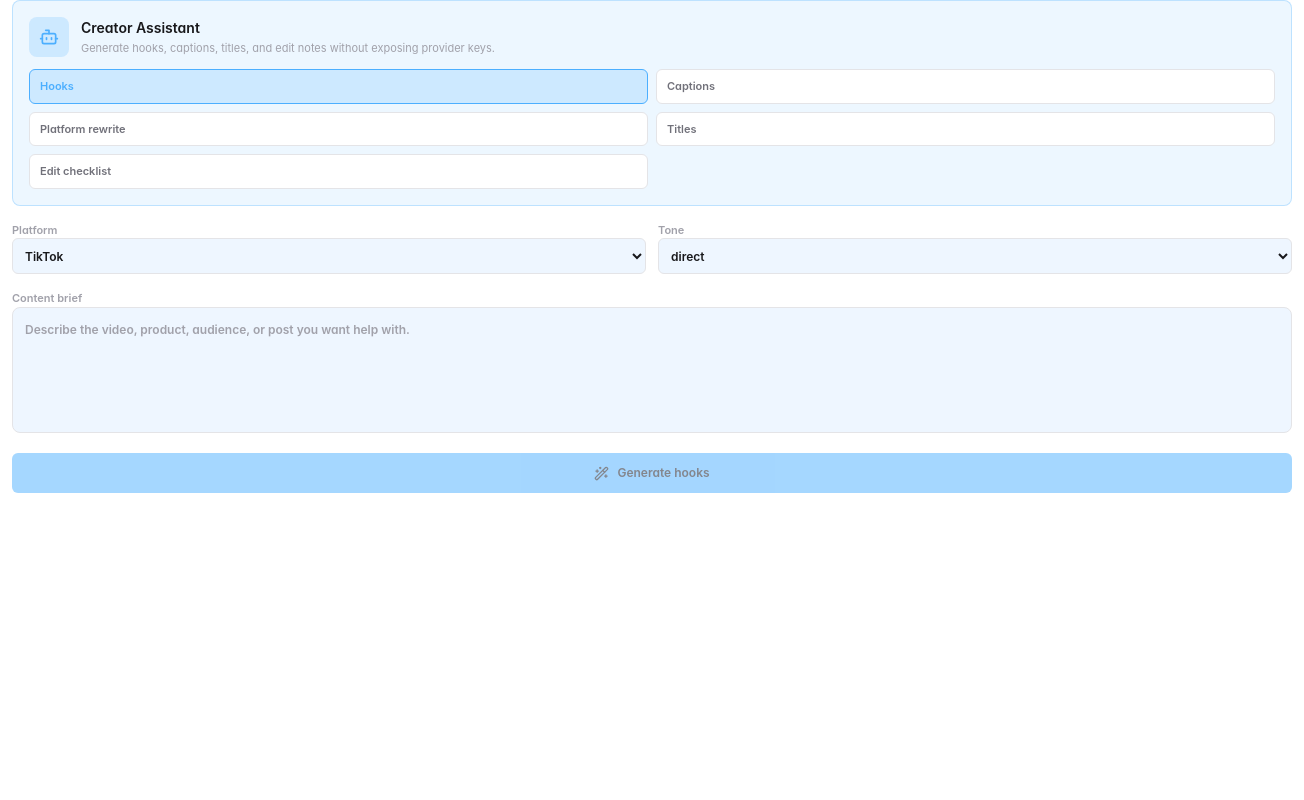
Scenario: CreatorAssistantPanel › generates creator suggestions from the secure assistant endpoint
Replace the text in the text box labelled "Content brief" with "Launch post for Kite": {"x": 652, "y": 370} [12,306,1292,432]
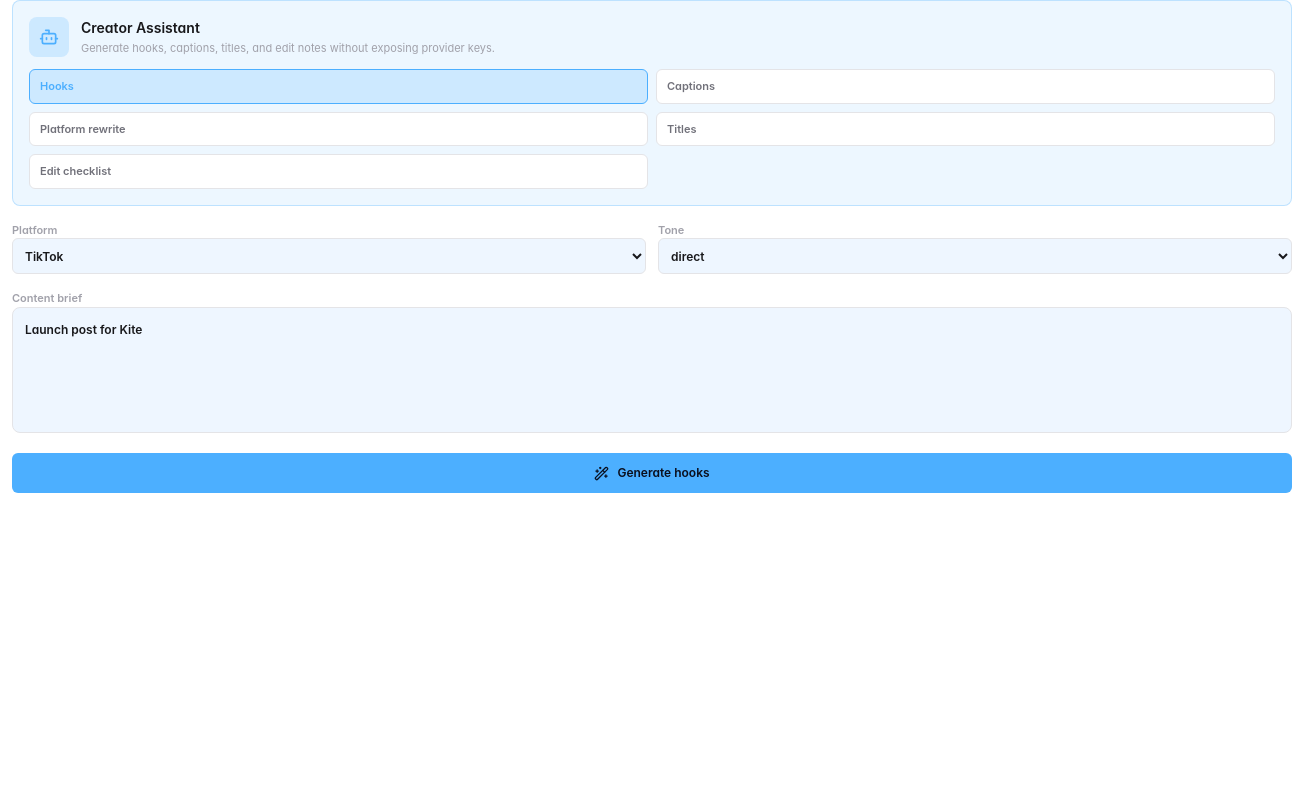
Click the button "Generate hooks": {"x": 652, "y": 473} [12,453,1292,493]
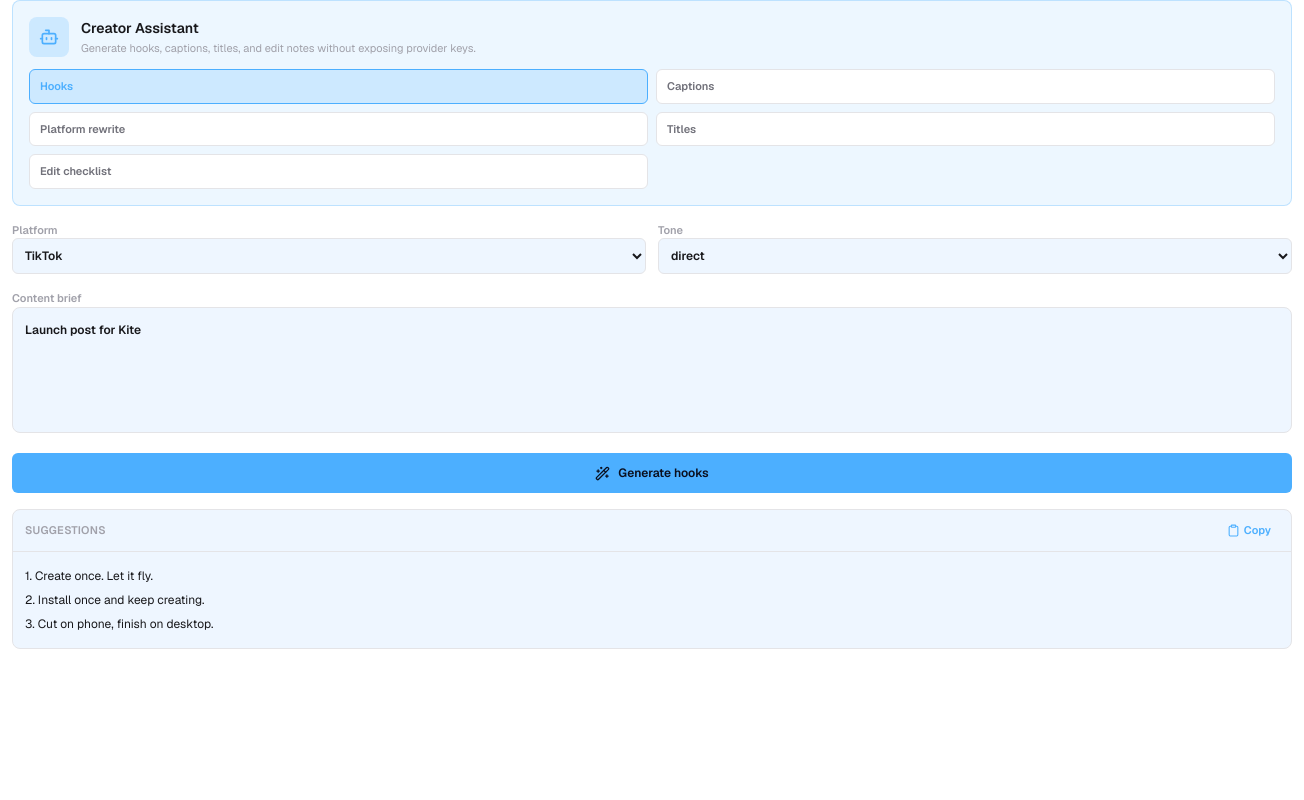
Now the text "Create once. Let it fly" is shown, box [25,568,214,632]
